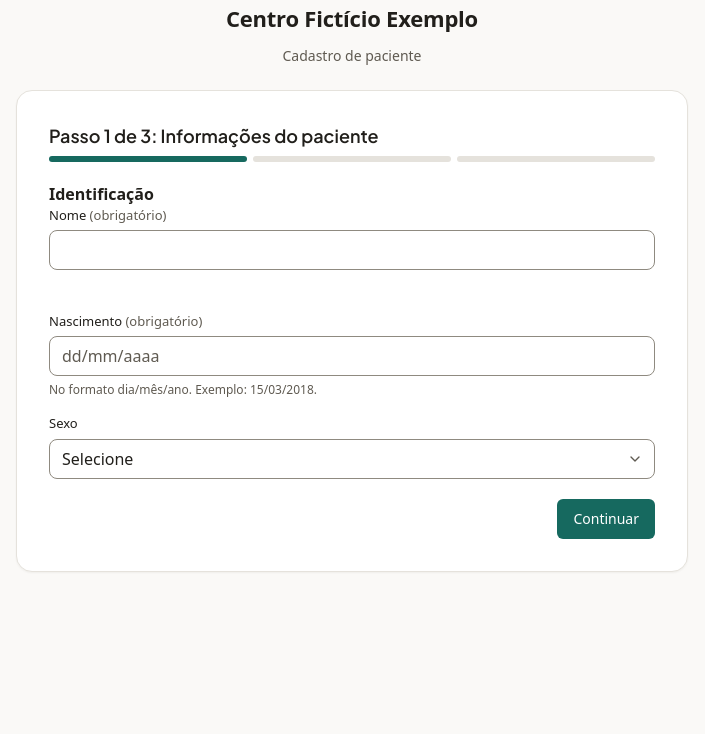
Test: Cadastro público — a página que a família abre › deve barrar o menor sem responsável, e deixar passar com ele
In the field labelled "Nome (obrigatório)": (352, 250) [49,230,655,270], type "Criança Fictícia"
In the field labelled "Nascimento (obrigatório)": (352, 356) [49,336,655,376], type "15032018"
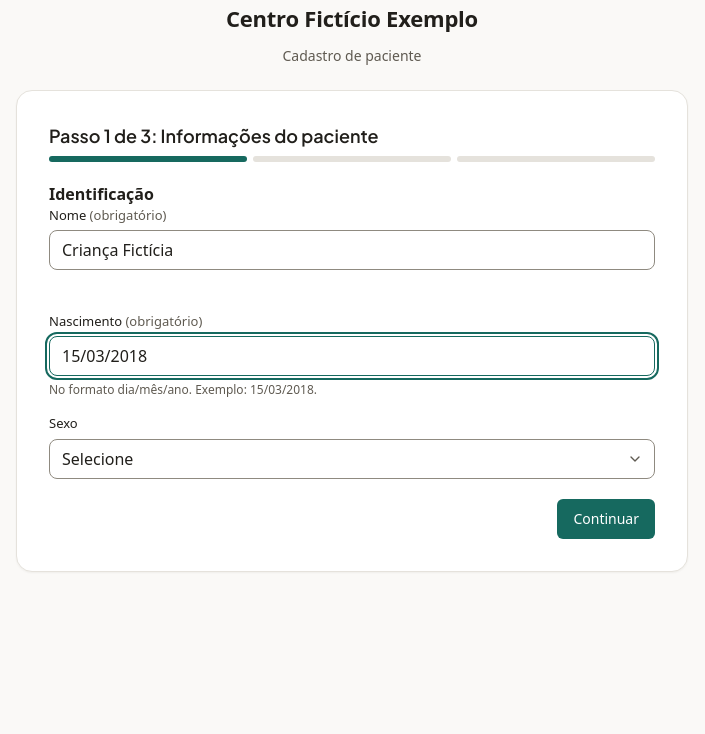
Click the button "Continuar": (606, 518) [557,498,655,538]
(page scrolled)
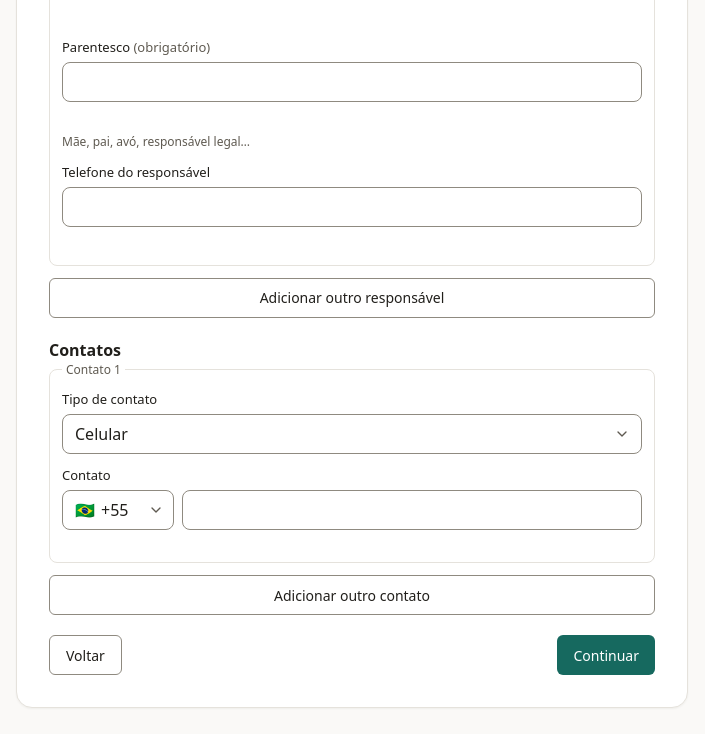
// ACT — tenta avançar sem responsável
Click the button "Continuar": (606, 655) [557,635,655,675]
(page scrolled)
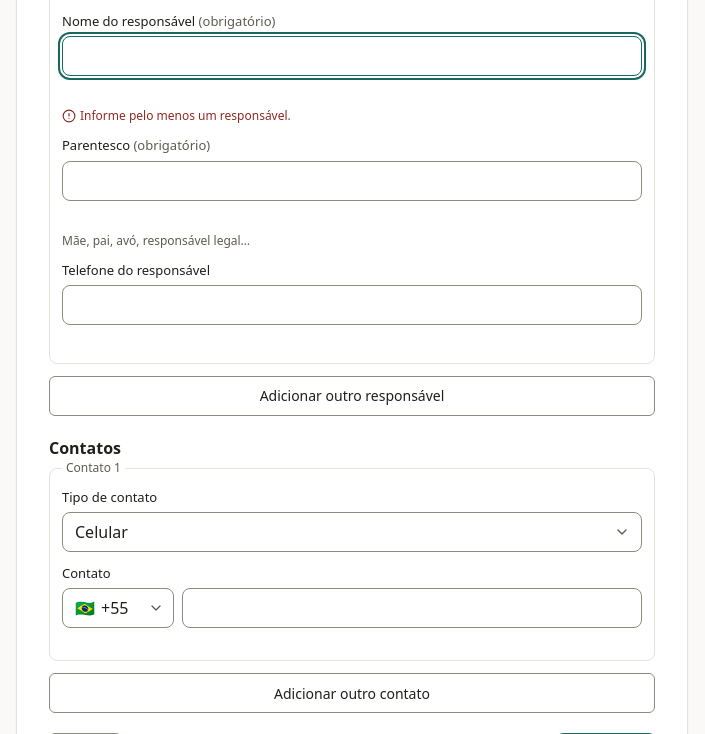
// ACT — com responsável, avança
In the field labelled "Nome do responsável (obrigatório)": (352, 56) [62,36,642,76], type "Responsável Fictícia"
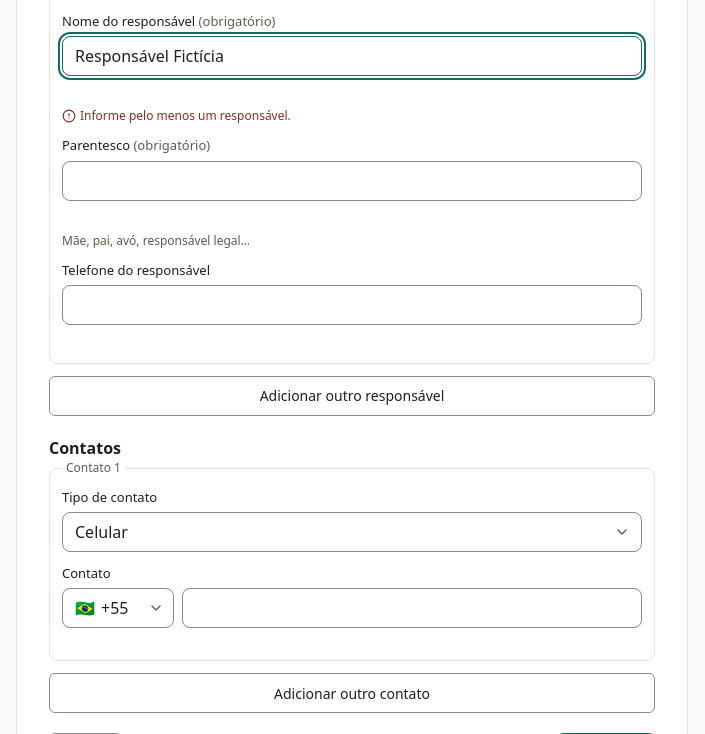
In the field labelled "Parentesco (obrigatório)": (352, 180) [62,160,642,200], type "Mãe"
(page scrolled)
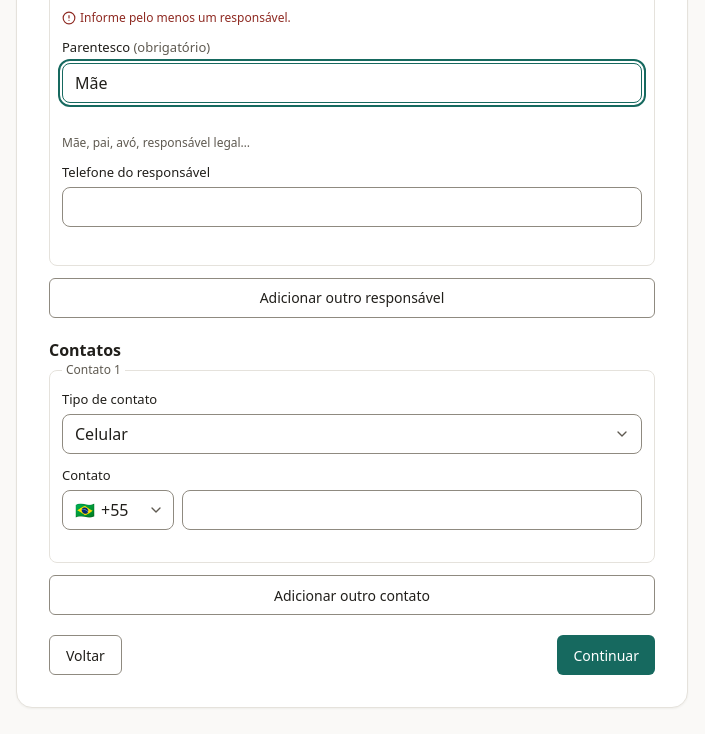
Click the button "Continuar": (606, 656) [557,636,655,676]
(page scrolled)
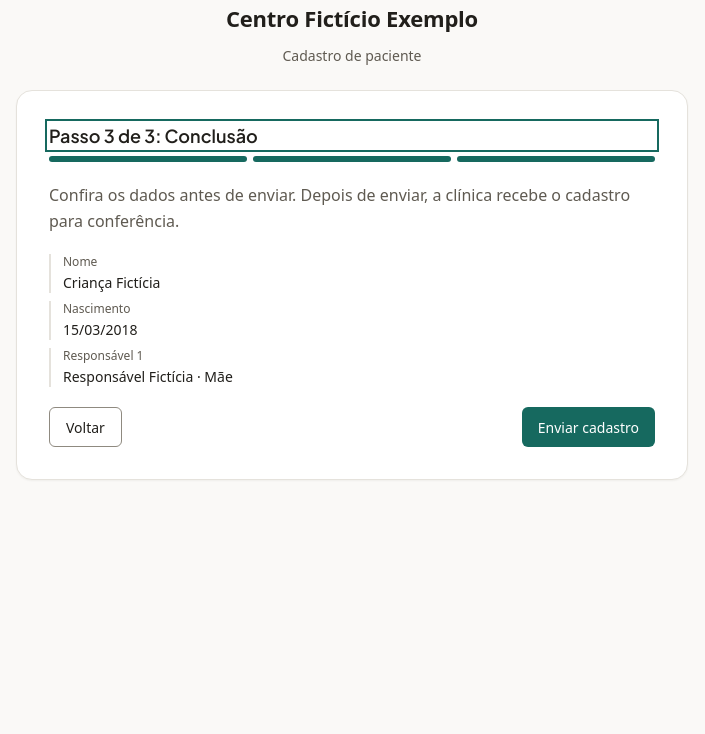
Expected: the message shows "Passo 3 de 3", [49,124,258,147]
